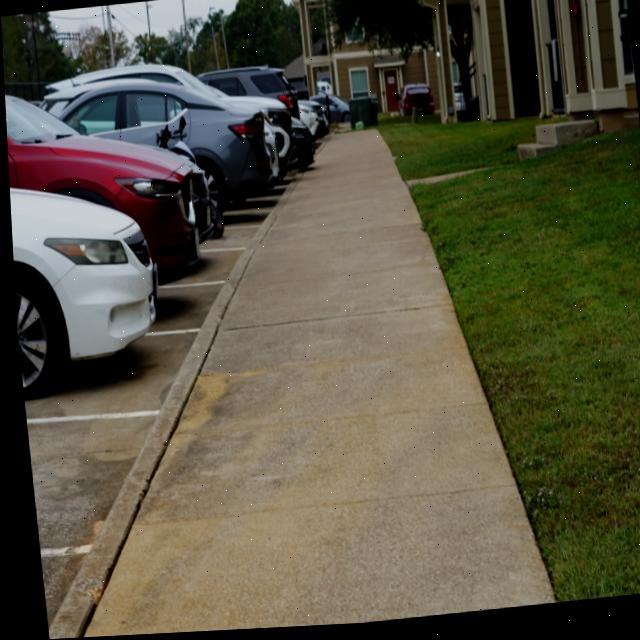Automobile: (4, 95, 213, 273), (44, 66, 270, 215), (8, 188, 155, 389), (198, 68, 298, 120), (264, 124, 296, 182), (398, 88, 433, 127), (292, 130, 312, 174), (298, 109, 320, 140), (327, 97, 349, 127), (310, 97, 325, 112), (268, 113, 279, 123), (281, 112, 288, 125)
Obstacle: (347, 96, 376, 131)
Road: (20, 198, 277, 629)
Sidewalk: (77, 134, 550, 638)
